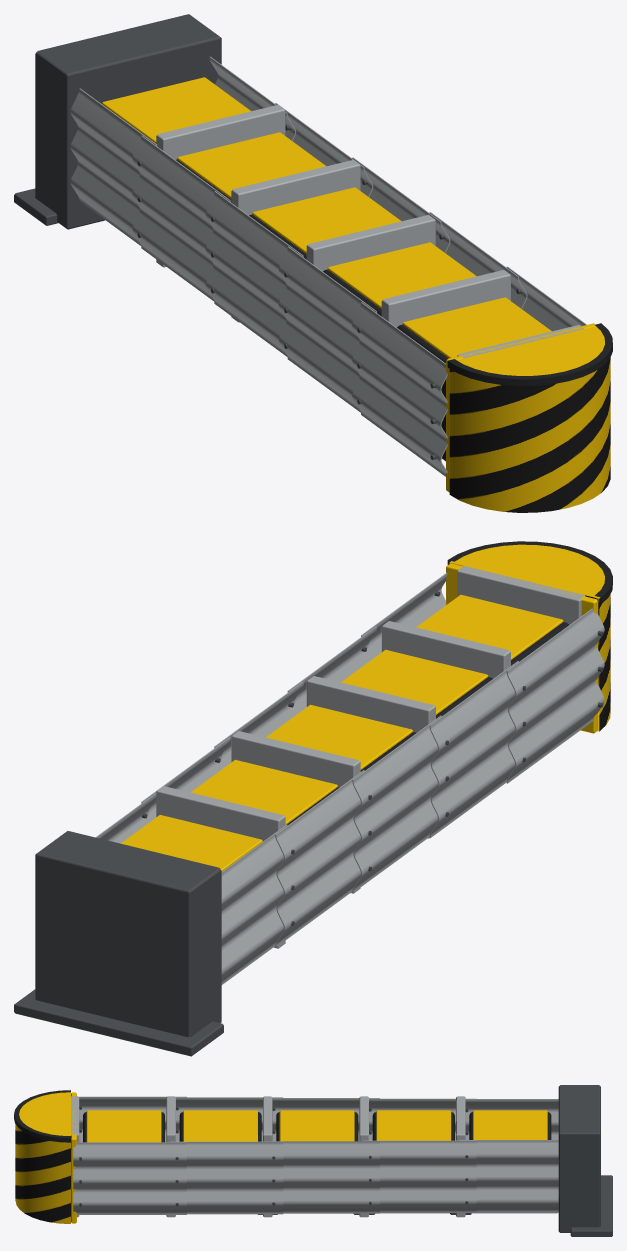
Rendered from crash_cushion.fbx.
3 renders of one model, top to bottom at view 1: azimuth 30°, elevation 25°; view 2: azimuth 150°, elevation 25°; view 3: azimuth 270°, elevation 25°, orthographic. The views are drawn at different scales.
Visible parts, largest first — view 1: crash_cushion; view 2: crash_cushion; view 3: crash_cushion.
Boxes of the visible parts, left/top/right/bottom form: crash_cushion: left=14, top=14, right=612, bottom=512; crash_cushion: left=14, top=541, right=612, bottom=1056; crash_cushion: left=14, top=1085, right=612, bottom=1236.
Bounding box in the file's own units: 1.1 × 0.92 × 4.96.
5 materials, 1 textured.
